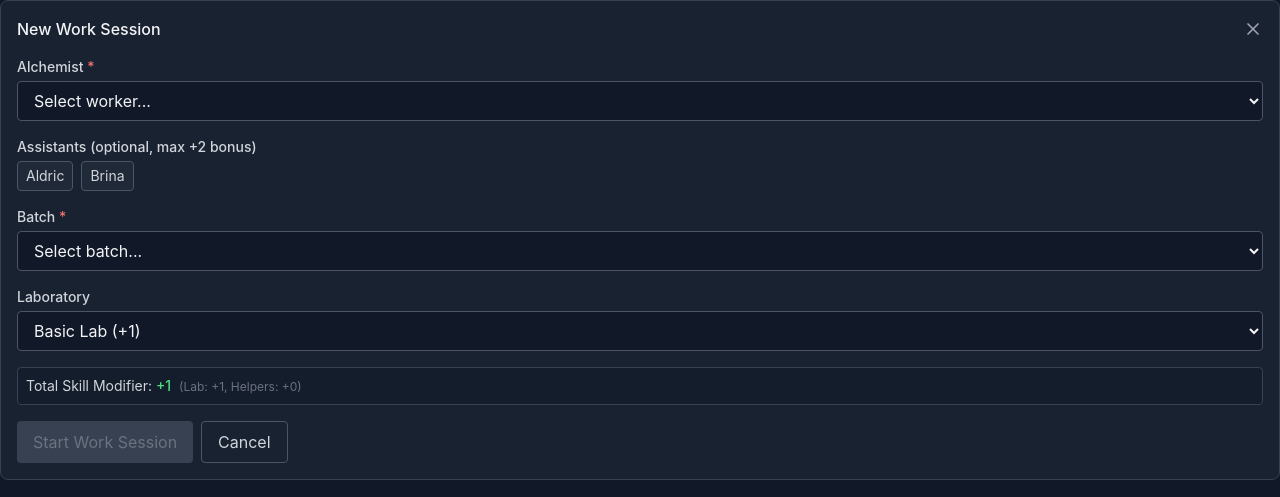
Test: AlchemyTaskForm › skill modifier calculation › updates modifier when lab is selected
The width and height of the screenshot is (1280, 497).
// Select advanced lab
Select "Advanced Lab (+3)" in the dropdown with test id "lab-select": (640, 331) [17, 311, 1263, 351]
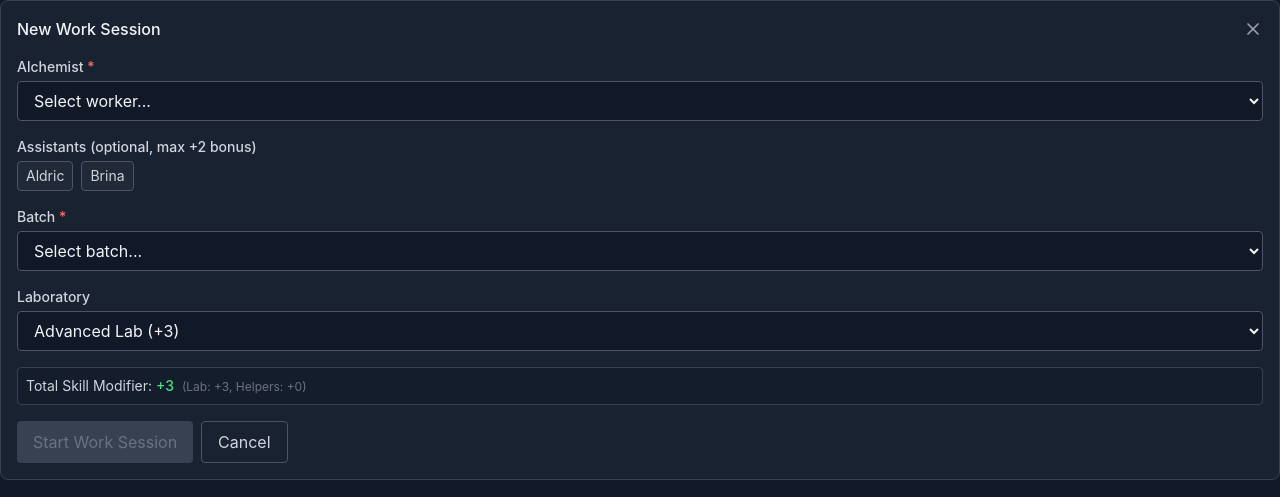
Result: the text "(Lab: +3, Helpers: +0)" is shown at [182, 379, 306, 394]
